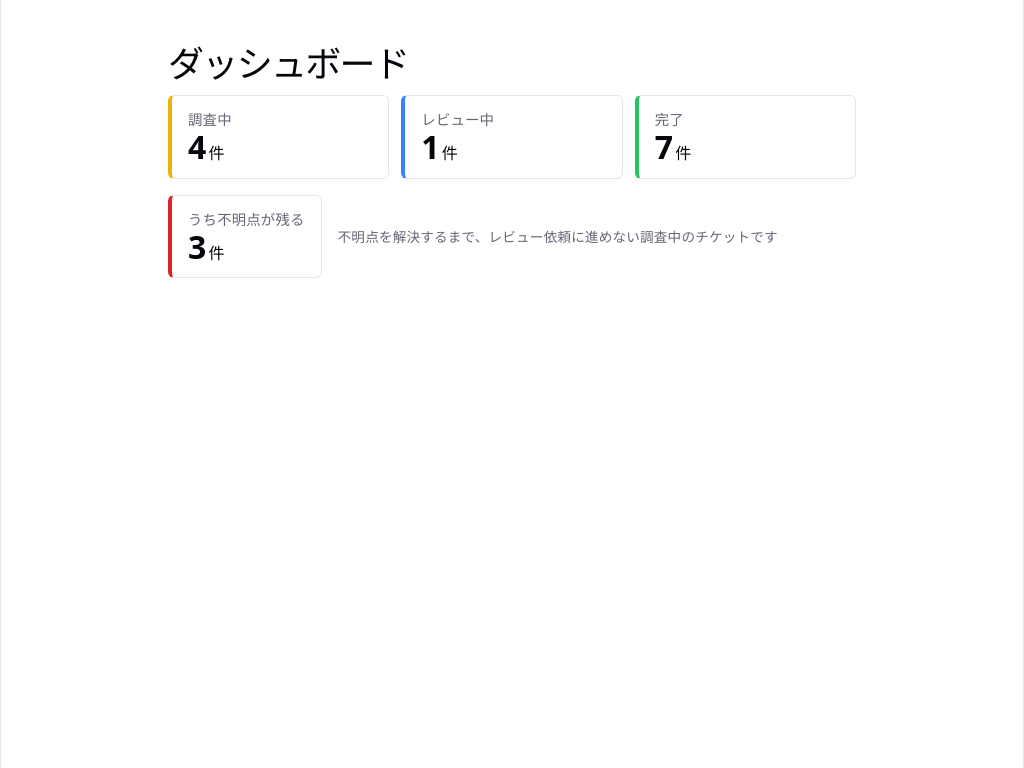
Test case: ダッシュボード › タイルを押すと、そのステータスで絞り込んだ一覧に移る
Click the link "完了 7件" at (745, 137), box [635,95,856,179]
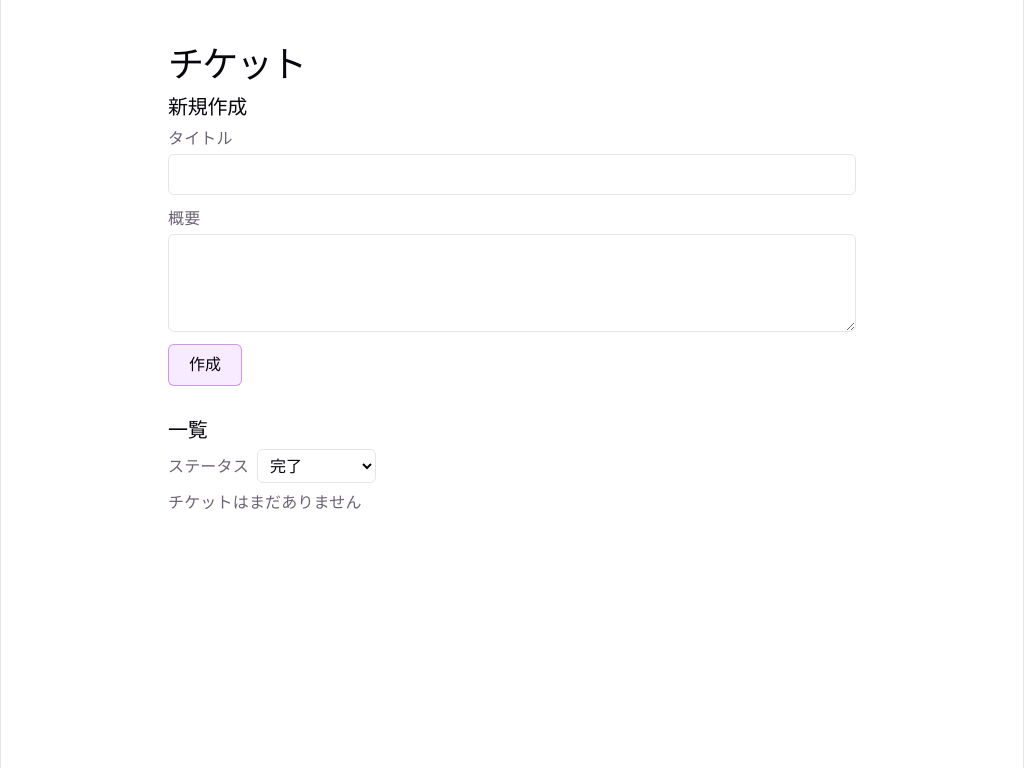
Expected: the text "チケットはまだありません" is shown, [168,491,362,513]
